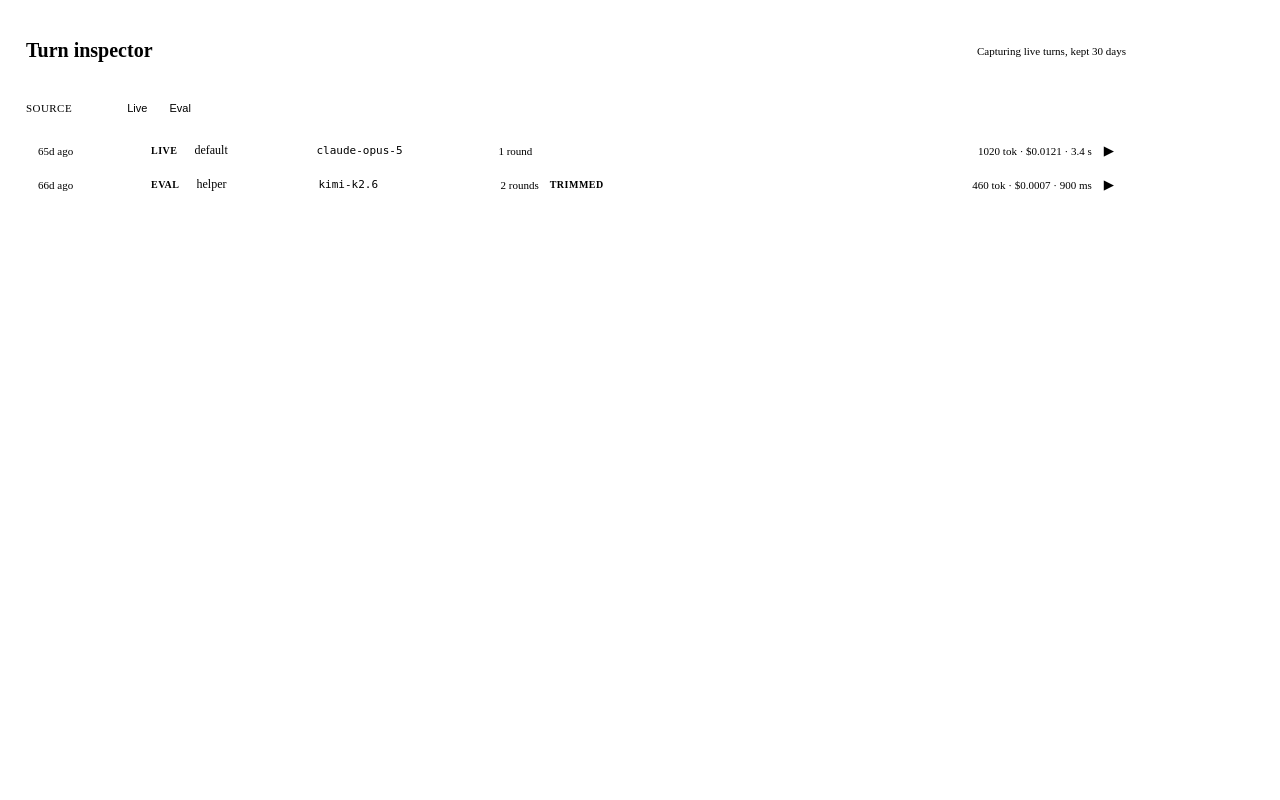
Scenario: Turn inspector — detail › expands inline and shows the prompt, system prompt, history and tool payloads
The image size is (1280, 800).
Check: the element with test id "trace-rows" is shown, box [26,134,1126,202]
Click the button with test id "trace-row" that starts with "65d ago": (56, 151) [26,134,1126,168]
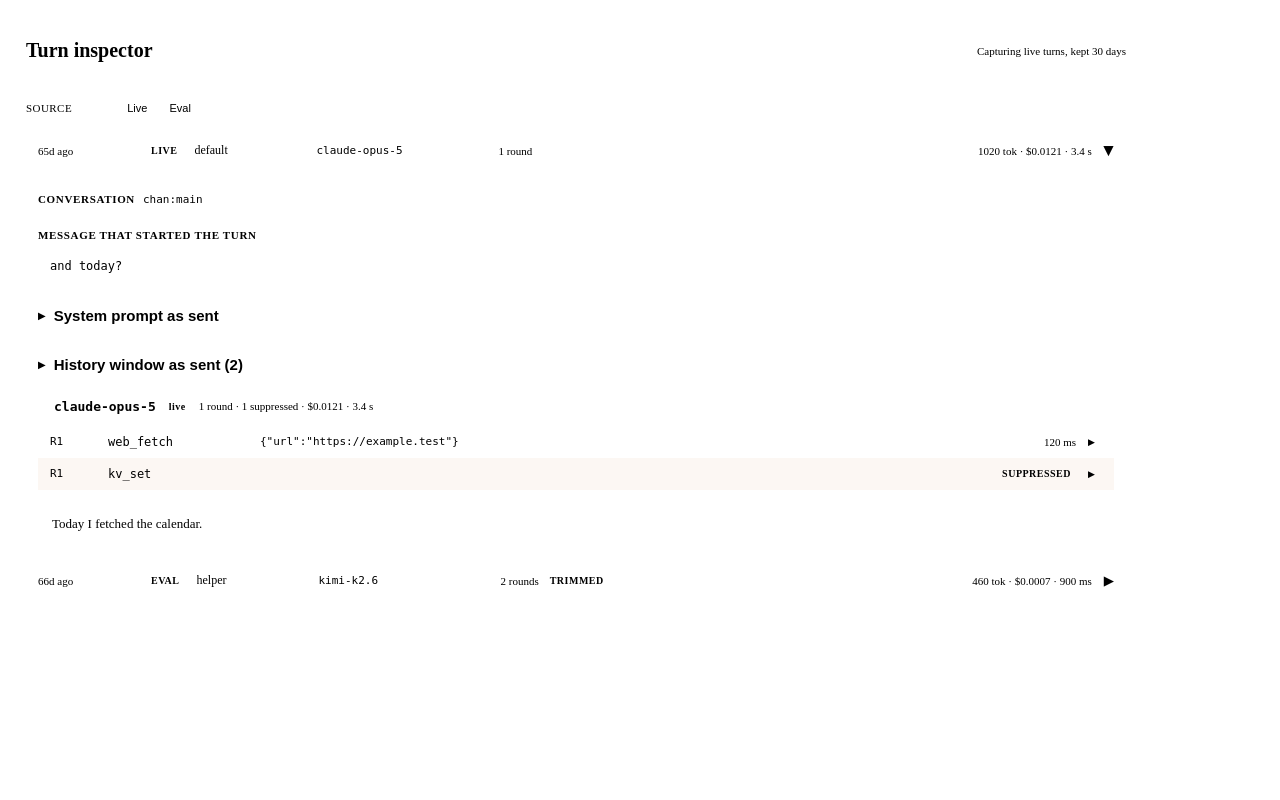
Check: the text "and today?" is shown, box [50,259,122,273]
Check: the text "Today I fetched the calendar." is shown, box [52,516,202,531]
Check: the text "web_fetch" is shown, box [108,435,173,449]
Click the button "▶ System prompt as sent": (136, 315) [38,297,1114,334]
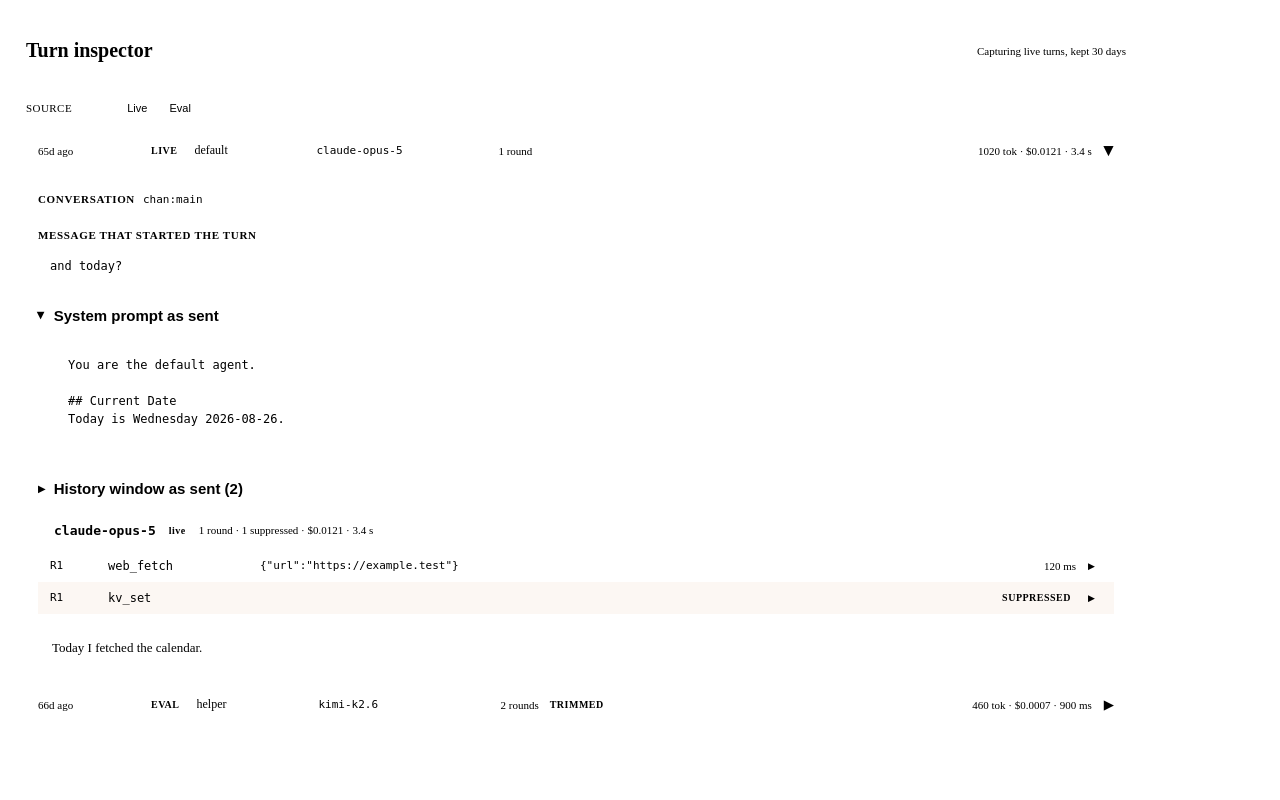
Check: the text with test id "trace-system-prompt" shows "You are the default agent.", box [68,358,285,426]
Click the button "▶ History window as sent (2)": (148, 488) [38,470,1114,507]
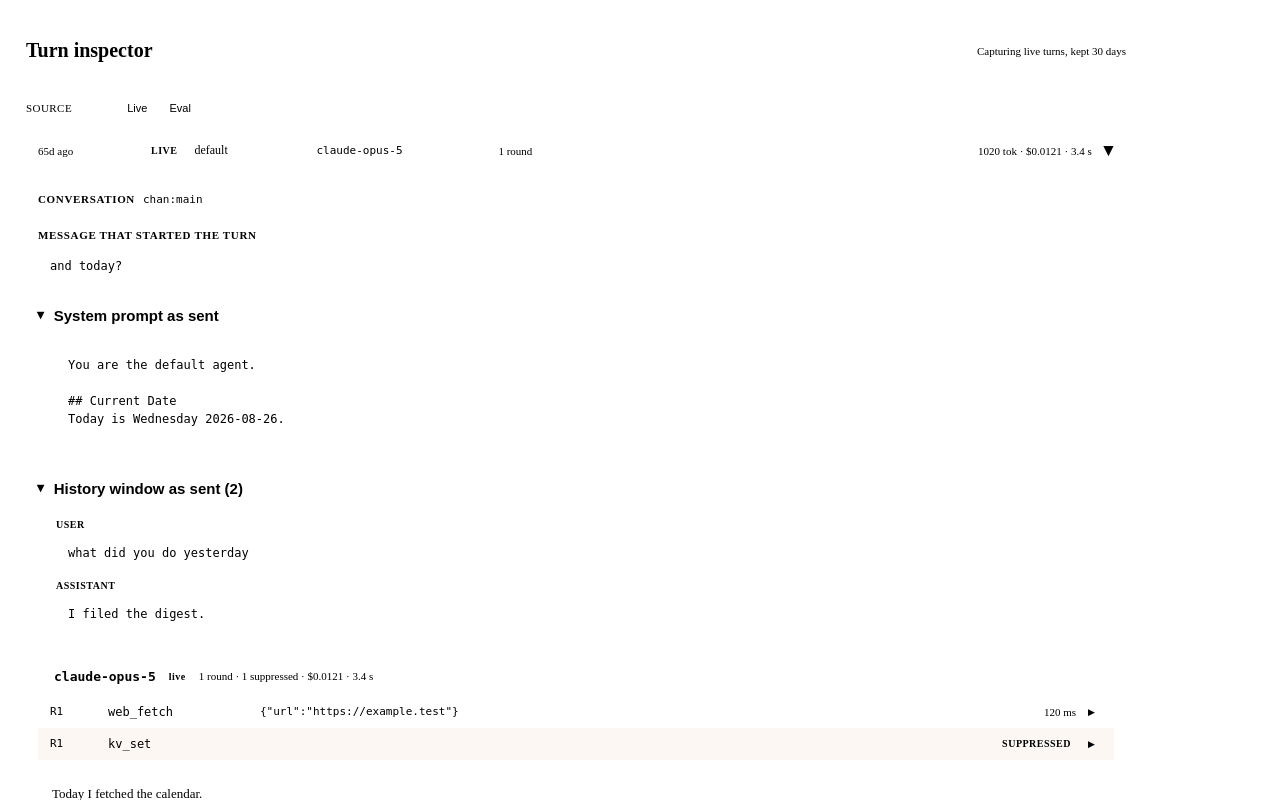
Check: the element with test id "trace-history" shows "what did you do yesterday", box [68,546,249,560]
